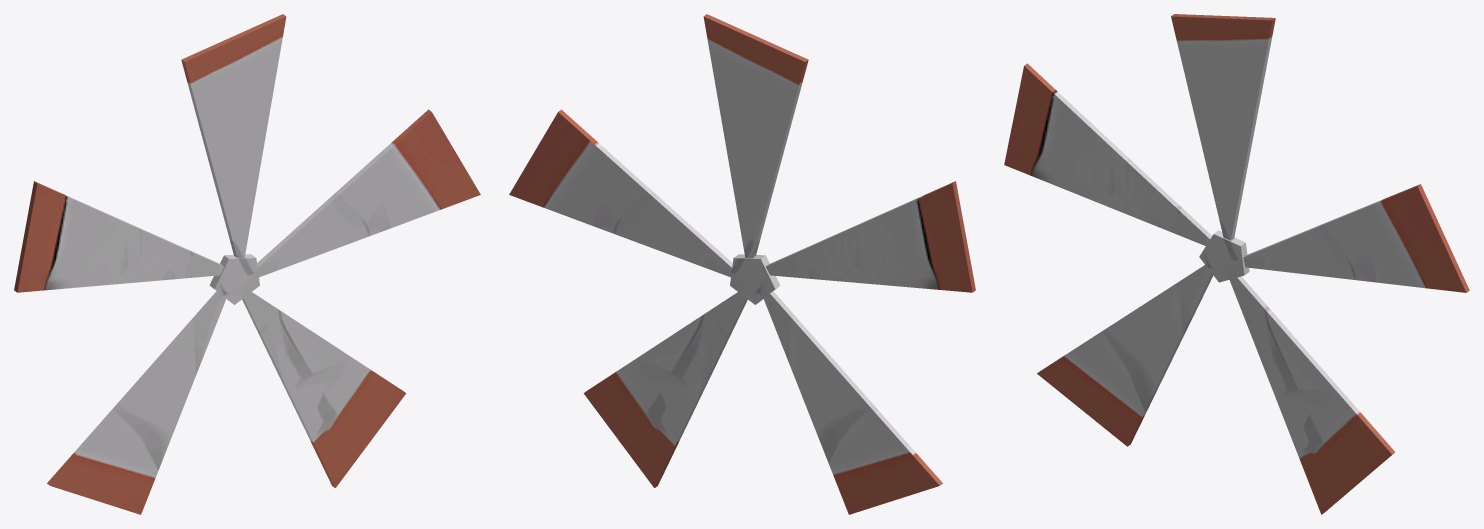
The model's file is Fam2.glb.
The picture shows the model from 3 angles, left to right: view 1: azimuth 30°, elevation 25°; view 2: azimuth 150°, elevation 25°; view 3: azimuth 330°, elevation 25°; orthographic projection.
Parts seen in each view (by area): view 1: Fam2; view 2: Fam2; view 3: Fam2.
Part boxes in pixels (x1,y1,x2,y2): Fam2: (14, 14, 480, 514); Fam2: (509, 14, 975, 514); Fam2: (1004, 14, 1469, 514).
Size of the model in its own units: 383 by 382 by 7.34.
Materials: 1 (1 with a texture image).
